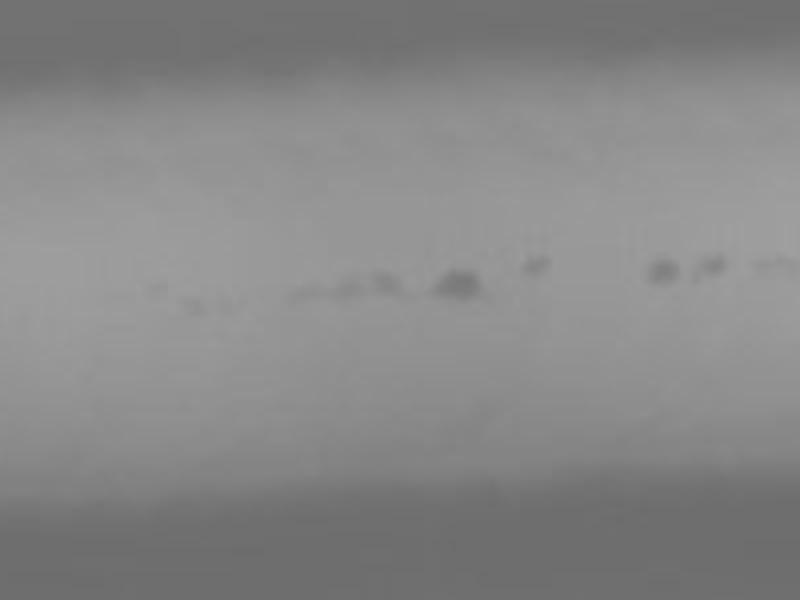defect: (431, 270, 485, 303), (289, 279, 361, 303), (643, 258, 683, 291), (695, 248, 726, 279), (520, 255, 557, 279), (368, 270, 401, 294), (179, 300, 210, 318), (145, 279, 170, 300)
